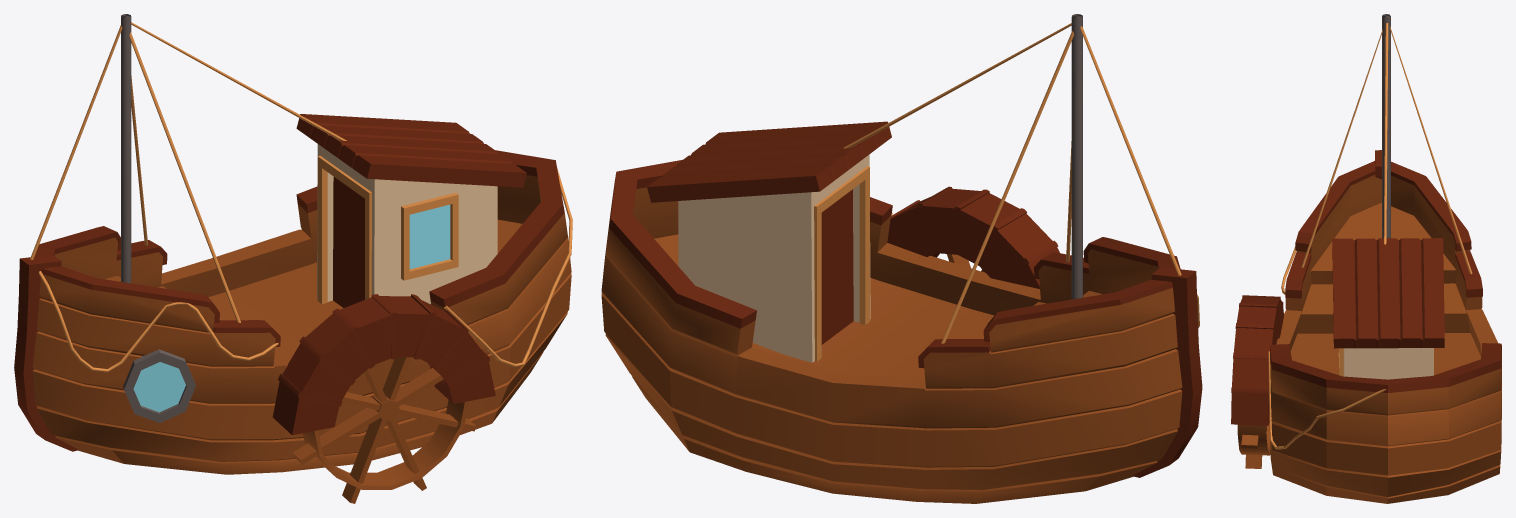
The model's file is ShipIdle.fbx.
The picture shows the model from 3 angles, left to right: view 1: azimuth 30°, elevation 25°; view 2: azimuth 150°, elevation 25°; view 3: azimuth 270°, elevation 25°; orthographic projection. The views are drawn at different scales.
Visible parts, largest first — view 1: Cube, Cylinder.003, Cube.012, Cube.013, Cylinder, Cube.011, Cube.010, Cube.015, Cube.009, Cylinder.004, Plane.002, Cylinder.001 (+4 smaller); view 2: Cube, Cube.012, Cube.013, Cylinder.003, Cube.011, Cube.010, Cube.009, Plane.002, Cube.014, Cylinder.002; view 3: Cube, Cube.013, Cylinder.003, Cube.010, Cube.011, Cube.012, Plane.002, Cylinder.002, Cylinder.001, Plane.001, Cylinder.
Part boxes in pixels (<box>): Cube: <box>32,175,571,474</box>; Cylinder.003: <box>272,294,495,435</box>; Cube.012: <box>317,144,497,307</box>; Cube.013: <box>296,114,526,187</box>; Cylinder: <box>293,357,476,503</box>; Cube.011: <box>296,150,564,307</box>; Cube.010: <box>34,226,280,347</box>; Cube.015: <box>401,192,458,280</box>; Cube.009: <box>14,254,77,451</box>; Cylinder.004: <box>123,349,195,422</box>; Plane.002: <box>30,22,346,322</box>; Cylinder.001: <box>302,400,468,489</box>; Cube: <box>601,187,1182,503</box>; Cube.012: <box>678,154,870,362</box>; Cube.013: <box>647,121,891,202</box>; Cylinder.003: <box>887,186,1059,288</box>; Cube.011: <box>609,159,892,328</box>; Cube.010: <box>918,237,1180,368</box>; Cube.009: <box>1133,267,1202,477</box>; Plane.002: <box>843,23,1181,343</box>; Cube.014: <box>814,166,869,361</box>; Cylinder.002: <box>1071,14,1082,299</box>; Cube: <box>1270,175,1501,503</box>; Cube.013: <box>1332,238,1444,348</box>; Cylinder.003: <box>1231,295,1283,425</box>; Cube.010: <box>1285,161,1482,298</box>; Cube.011: <box>1270,343,1501,392</box>; Cube.012: <box>1343,348,1433,379</box>; Plane.002: <box>1301,23,1472,274</box>; Cylinder.002: <box>1382,14,1390,238</box>; Cylinder.001: <box>1237,422,1270,455</box>; Plane.001: <box>1268,351,1386,449</box>; Cylinder: <box>1241,425,1266,468</box>.
Bounding box in the file's own units: 719 × 576 × 382.
